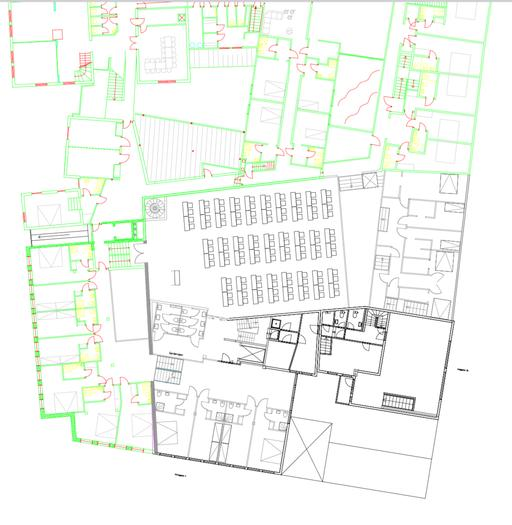room: (144, 176, 349, 320), (350, 310, 453, 418), (329, 53, 385, 132), (414, 32, 485, 77), (404, 73, 480, 115), (240, 99, 284, 164), (138, 24, 188, 81), (251, 38, 292, 103), (395, 139, 473, 173), (318, 336, 384, 376), (297, 57, 335, 115), (413, 108, 475, 143), (291, 110, 330, 165), (14, 41, 59, 84), (25, 191, 80, 226), (407, 199, 466, 231), (324, 125, 373, 163), (290, 311, 319, 375), (67, 146, 120, 179), (69, 118, 123, 150), (264, 339, 297, 370), (138, 7, 186, 26), (188, 6, 204, 49), (336, 375, 354, 404), (418, 72, 438, 98), (257, 35, 278, 59), (411, 55, 440, 72), (317, 58, 338, 81), (78, 342, 101, 362), (382, 144, 399, 170), (76, 307, 98, 327), (62, 362, 86, 380), (75, 290, 97, 309), (306, 146, 325, 168), (70, 243, 93, 261), (418, 5, 445, 20), (410, 130, 427, 153), (83, 386, 105, 403), (137, 382, 152, 405), (405, 4, 420, 19), (227, 5, 237, 27), (203, 18, 217, 33), (204, 33, 218, 48), (202, 6, 218, 18), (237, 5, 246, 26)
